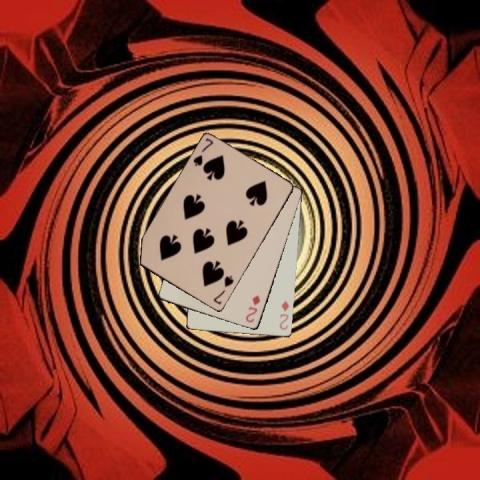2d: (243, 293, 261, 324), (276, 298, 290, 331)
7s: (210, 273, 235, 306), (190, 135, 215, 168)
